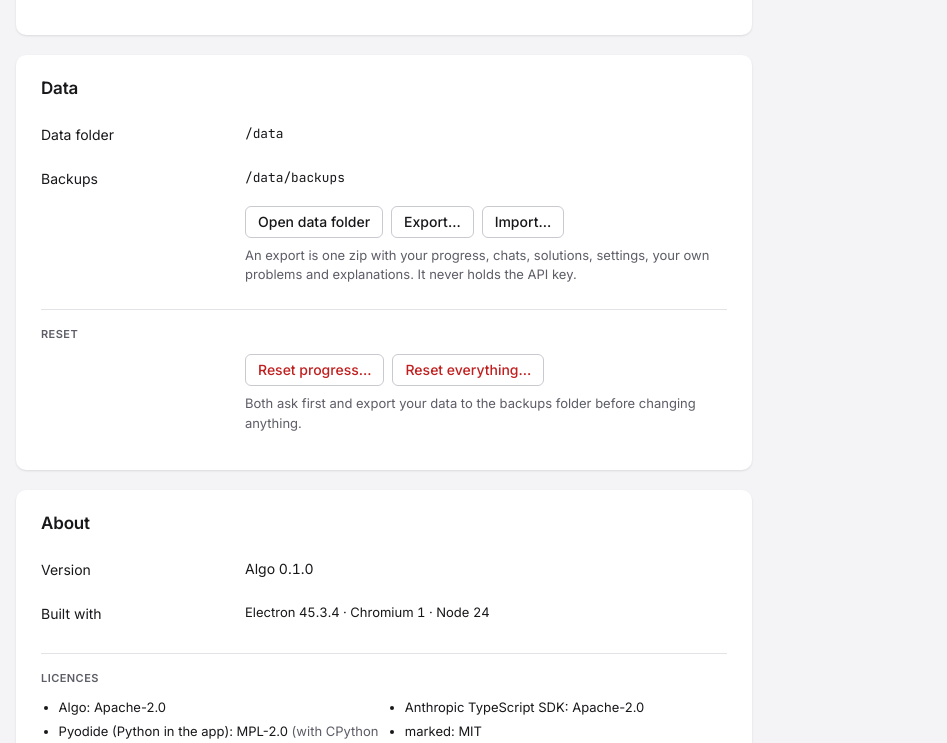
SettingsPage › reset progress goes to main and reports the backup
(page scrolled)
Click the button "Reset progress…": [315, 370] box [245,354,384,386]
(page scrolled)
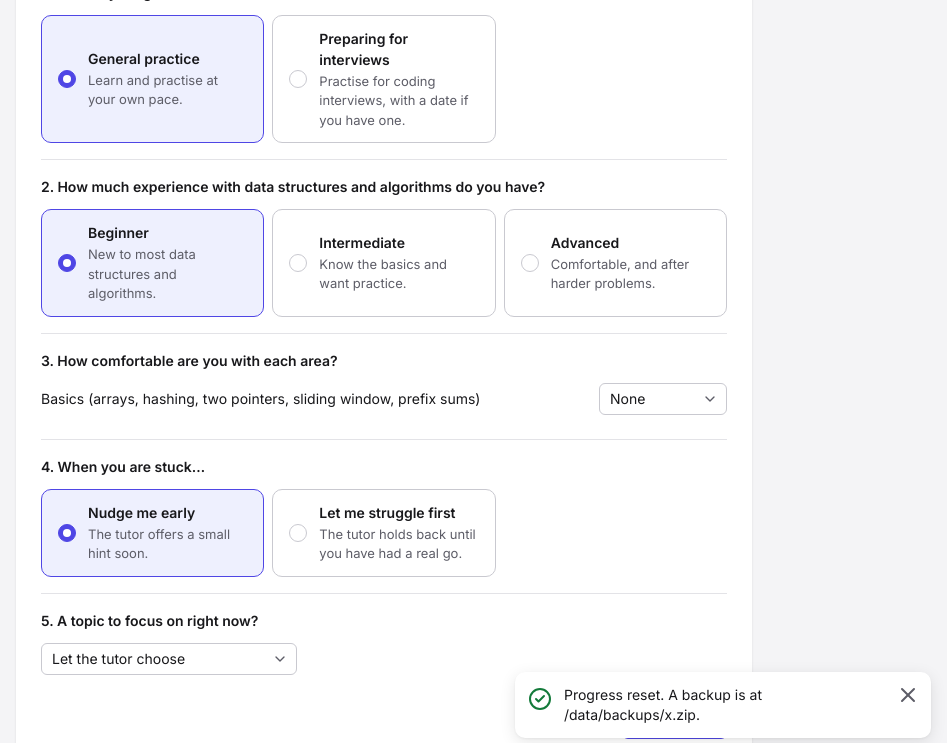
Result: the text "Progress reset. A backup is at /data/backups/x.zip." is shown at [564,686,762,723]
